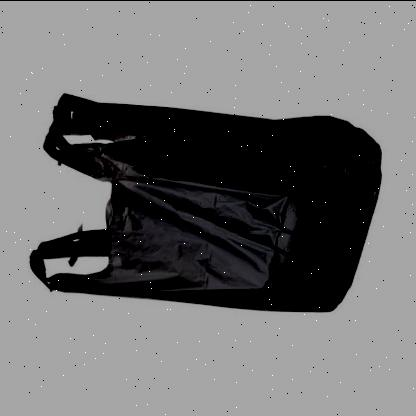Others: (26, 92, 382, 312)
